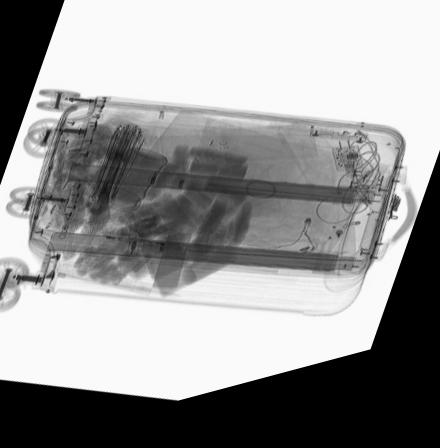Lighter: (103, 239, 135, 251)
